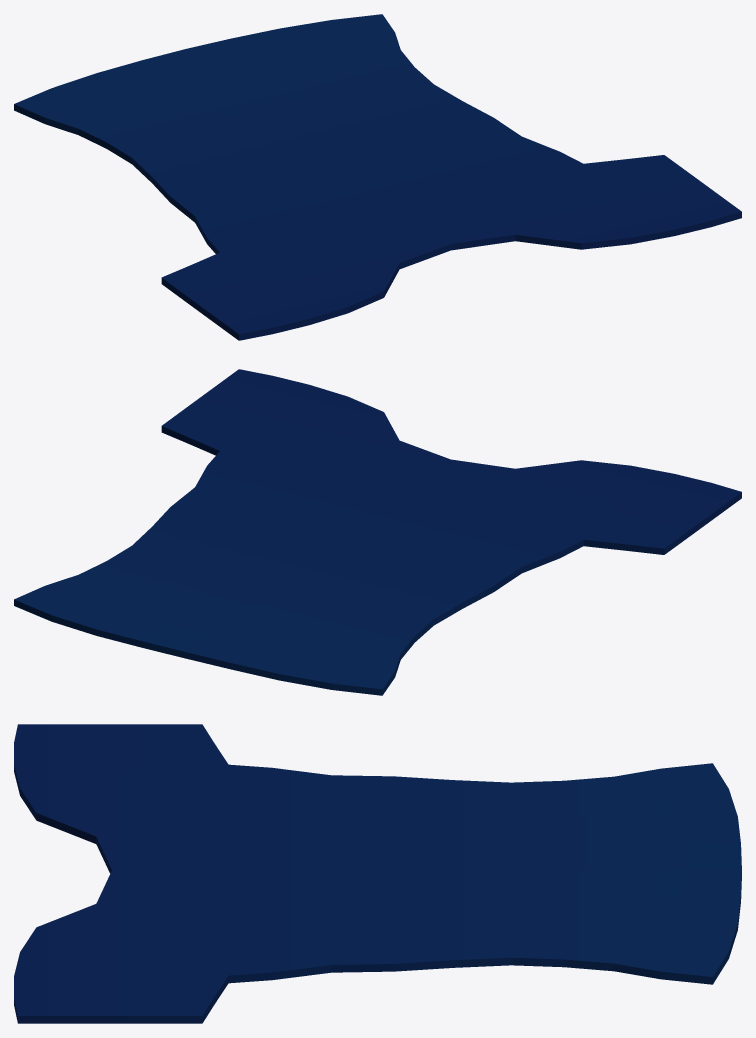
File: camiseta_2.glb
3 views of the same model, one above another, from view 1: azimuth 30°, elevation 25°; view 2: azimuth 150°, elevation 25°; view 3: azimuth 270°, elevation 25° (orthographic). The views are drawn at different scales.
Parts seen in each view (by area): view 1: camiseta_2; view 2: camiseta_2; view 3: camiseta_2.
Boxes of the visible parts, <box> form: camiseta_2: <box>14,14,741,340</box>; camiseta_2: <box>14,369,741,695</box>; camiseta_2: <box>14,724,741,1023</box>.
Size of what is drawn, in the model's own units: 0.6144 by 0.00898 by 0.6477.
1 material, 1 textured.
